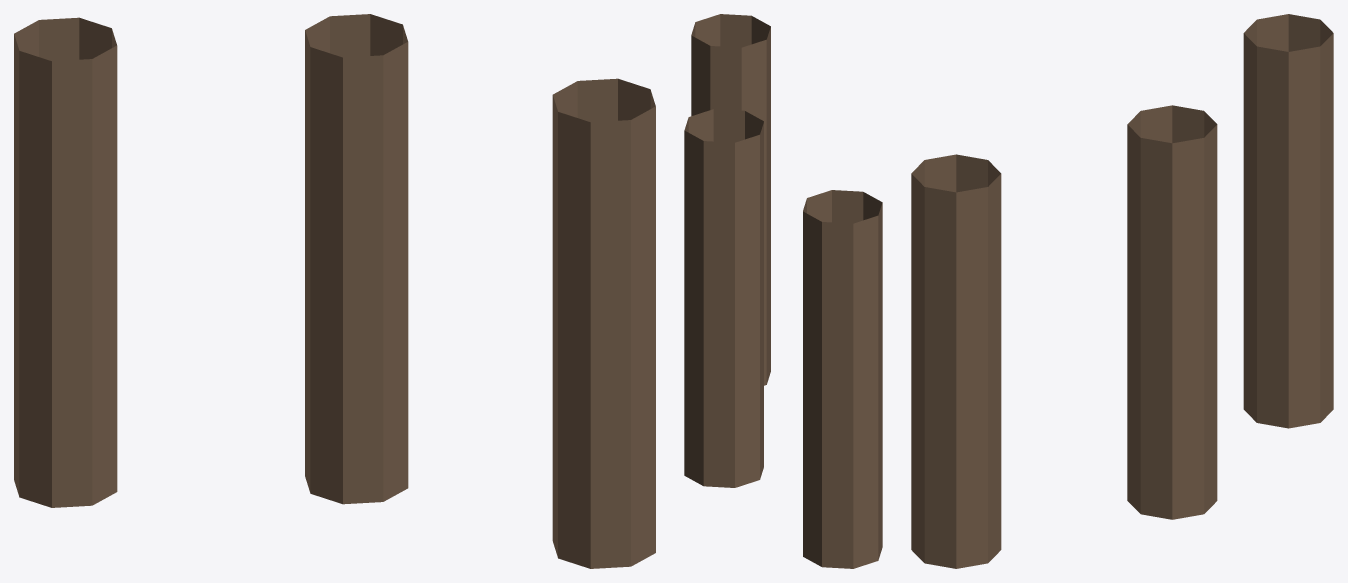
File: Beach_Prop_Docks_Corner_Supports.obj
3 views of the same model, side by side, from view 1: azimuth 30°, elevation 25°; view 2: azimuth 150°, elevation 25°; view 3: azimuth 270°, elevation 25° (orthographic). The views are drawn at different scales.
Parts seen in each view (by area): view 1: object1, object2, object3; view 2: object2, object3, object1; view 3: object1, object2, object3.
Boxes of the visible parts, left/top/right/bottom form: object1: left=552, top=78, right=655, bottom=568; object2: left=14, top=17, right=117, bottom=507; object3: left=305, top=14, right=408, bottom=504; object2: left=803, top=190, right=882, bottom=568; object3: left=684, top=109, right=763, bottom=487; object1: left=691, top=14, right=770, bottom=385; object1: left=911, top=154, right=1001, bottom=568; object2: left=1243, top=14, right=1333, bottom=428; object3: left=1127, top=105, right=1217, bottom=519.
Size of the model in its own units: 1.02 by 1 by 1.02.
